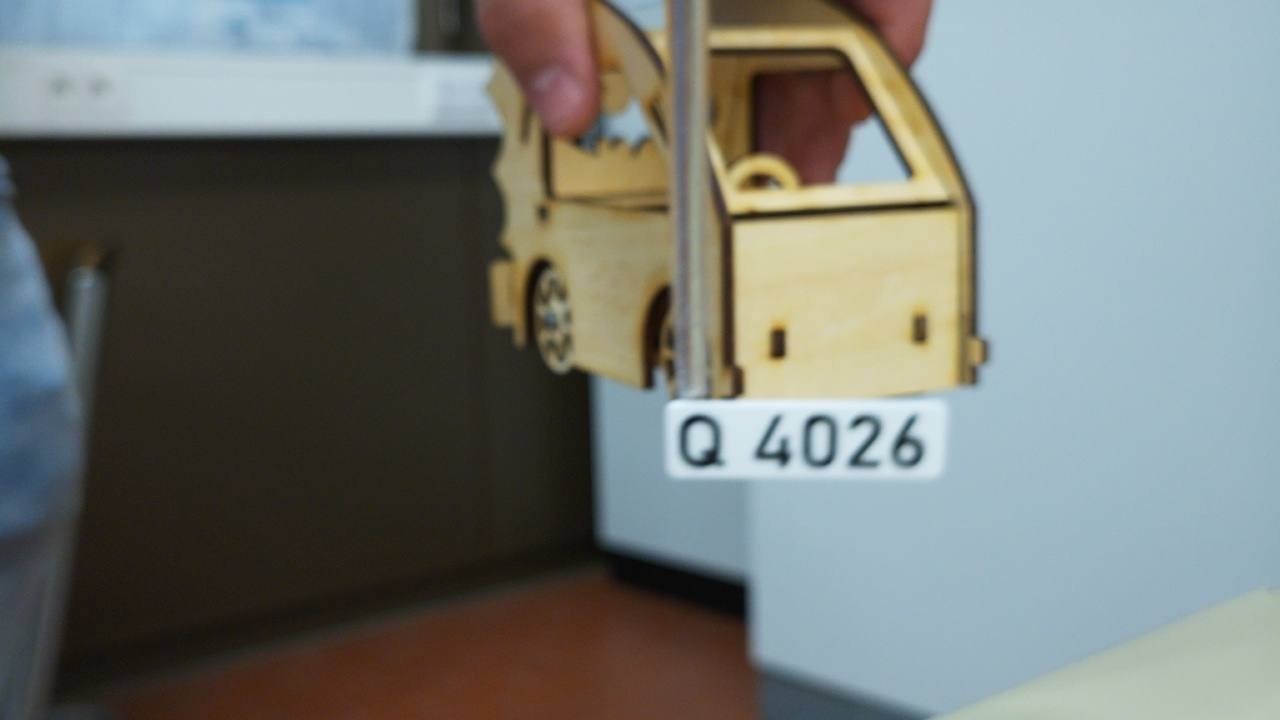license_plate: (659, 395, 951, 484)
